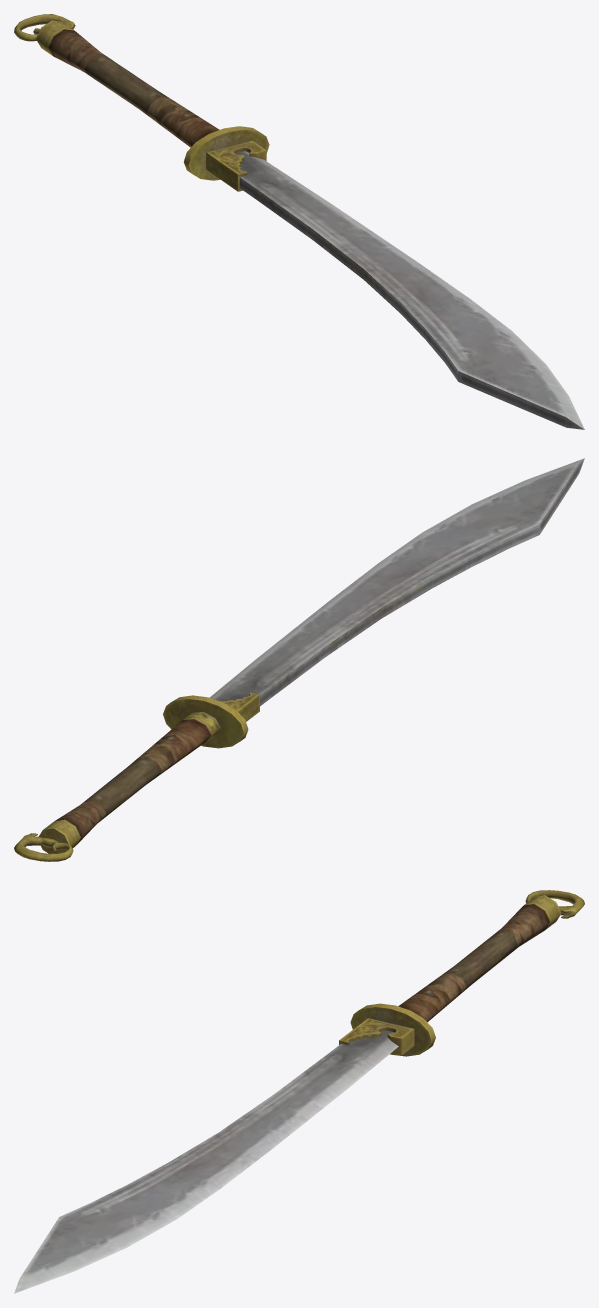
The model's file is katana.glb.
3 views of the same model, one above another, from view 1: azimuth 30°, elevation 25°; view 2: azimuth 150°, elevation 25°; view 3: azimuth 330°, elevation 25° (orthographic). The views are drawn at different scales.
Visible parts, largest first — view 1: sword1h-210; view 2: sword1h-210; view 3: sword1h-210.
Part boxes in pixels (x1,y1,x2,y2): sword1h-210: (14, 14, 584, 429); sword1h-210: (14, 458, 584, 861); sword1h-210: (14, 890, 584, 1293).
Bounding box in the file's own units: 0.0937 × 0.0438 × 0.95.
1 material, 1 textured.
